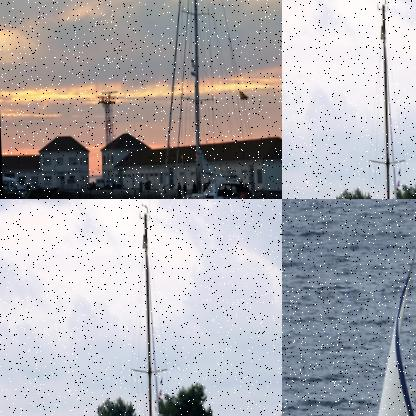Sails Boat: (149, 0, 272, 198), (105, 202, 179, 415), (348, 199, 415, 415), (343, 0, 415, 198)
